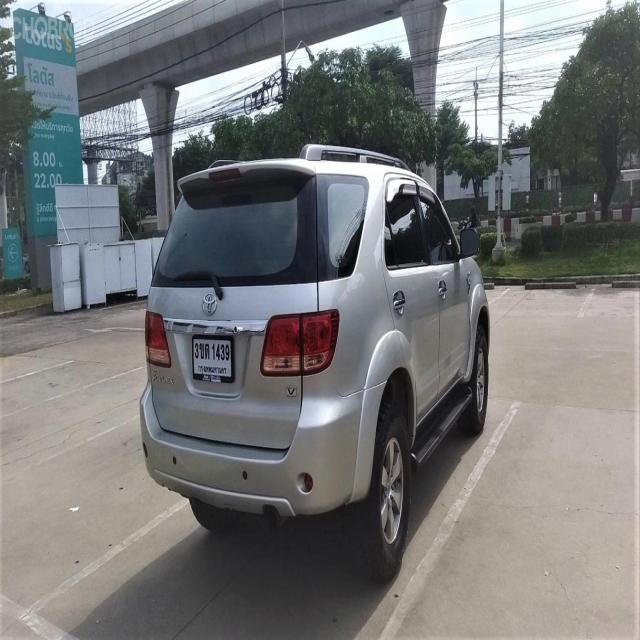license_plate: (191, 334, 236, 384)
